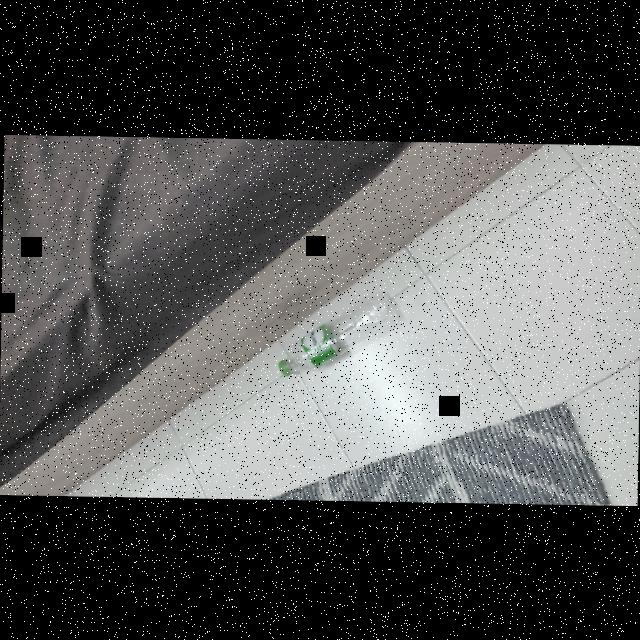plastic_bottle: (274, 285, 406, 384)
